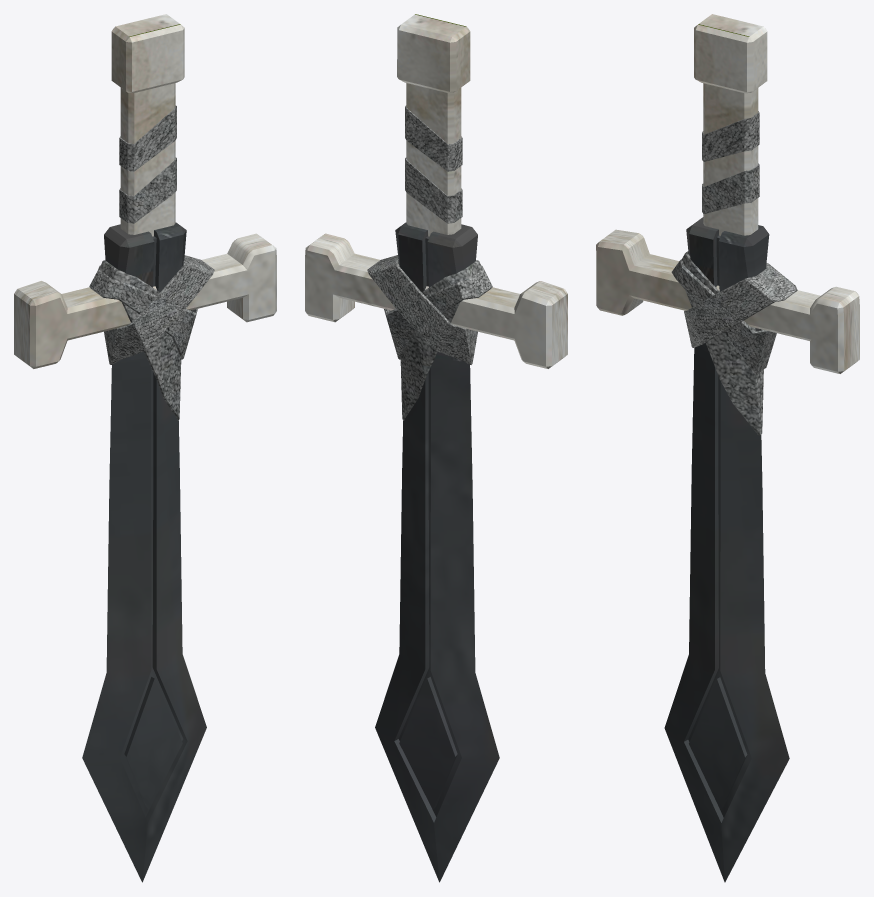
Rendered from AbandonedWeapon_Sword.fbx.
The picture shows the model from 3 angles, left to right: view 1: azimuth 30°, elevation 25°; view 2: azimuth 150°, elevation 25°; view 3: azimuth 330°, elevation 25°; orthographic projection.
Parts seen in each view (by area): view 1: AbandonedWeapon_Sword; view 2: AbandonedWeapon_Sword; view 3: AbandonedWeapon_Sword.
Part boxes in pixels (x1,y1,x2,y2): AbandonedWeapon_Sword: [14, 14, 276, 882]; AbandonedWeapon_Sword: [305, 14, 567, 882]; AbandonedWeapon_Sword: [596, 14, 859, 882].
Bounding box in the file's own units: 21.24 × 70.33 × 4.08.
